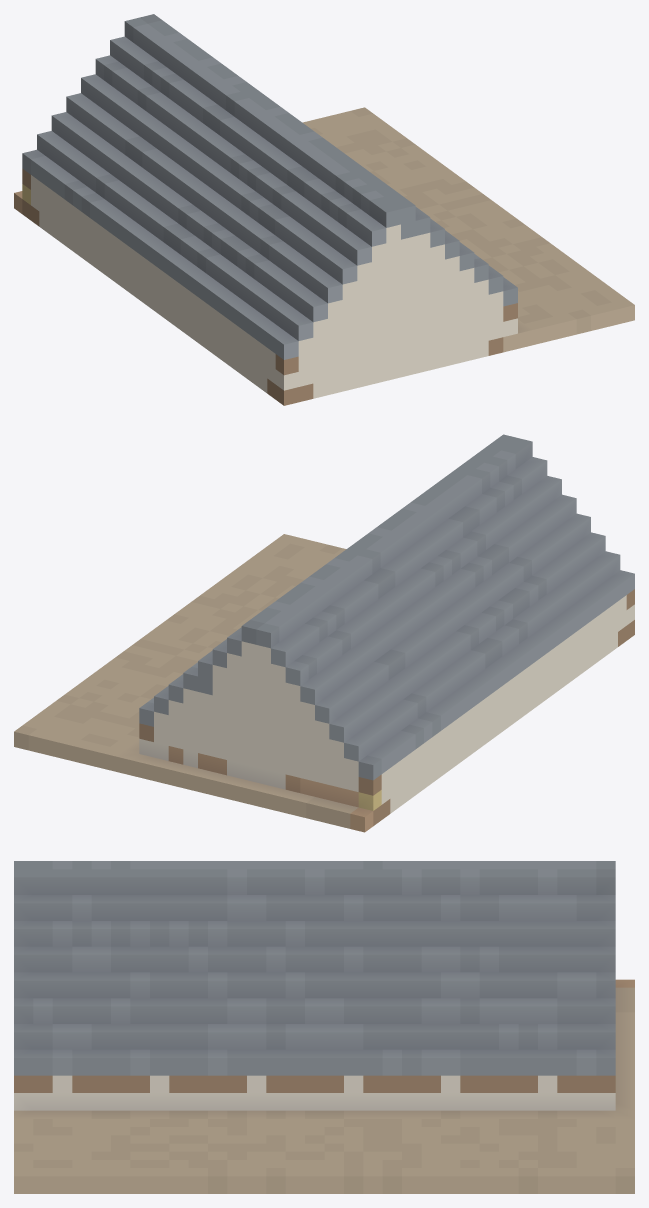
File: cathedral.lite.glb
3 views of the same model, one above another, from view 1: azimuth 30°, elevation 25°; view 2: azimuth 150°, elevation 25°; view 3: azimuth 270°, elevation 25° (orthographic). The views are drawn at different scales.
Visible parts, largest first — view 1: cathedral; view 2: cathedral; view 3: cathedral.
Part boxes in pixels (box(x1,y1,x2,y2)): cathedral: box(14, 14, 634, 405); cathedral: box(14, 434, 634, 832); cathedral: box(14, 861, 634, 1193).
Bounding box in the file's own units: 12 × 5.5 × 16.
